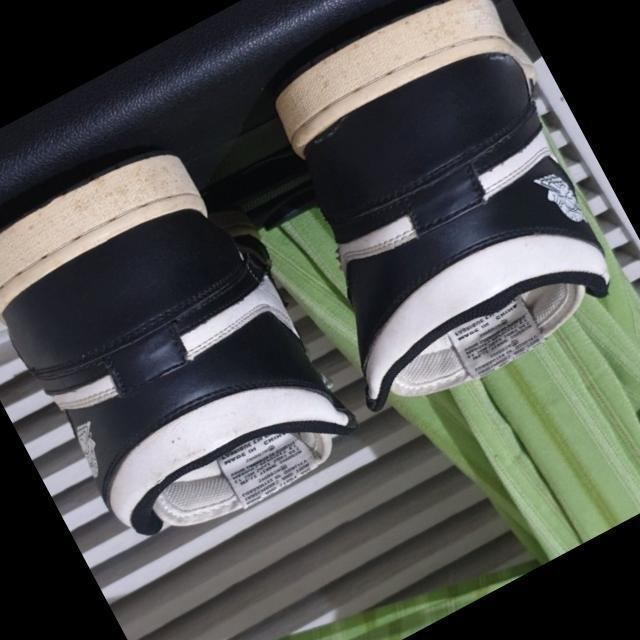nike fake jordan 1: (205, 0, 640, 439), (0, 118, 369, 576)
